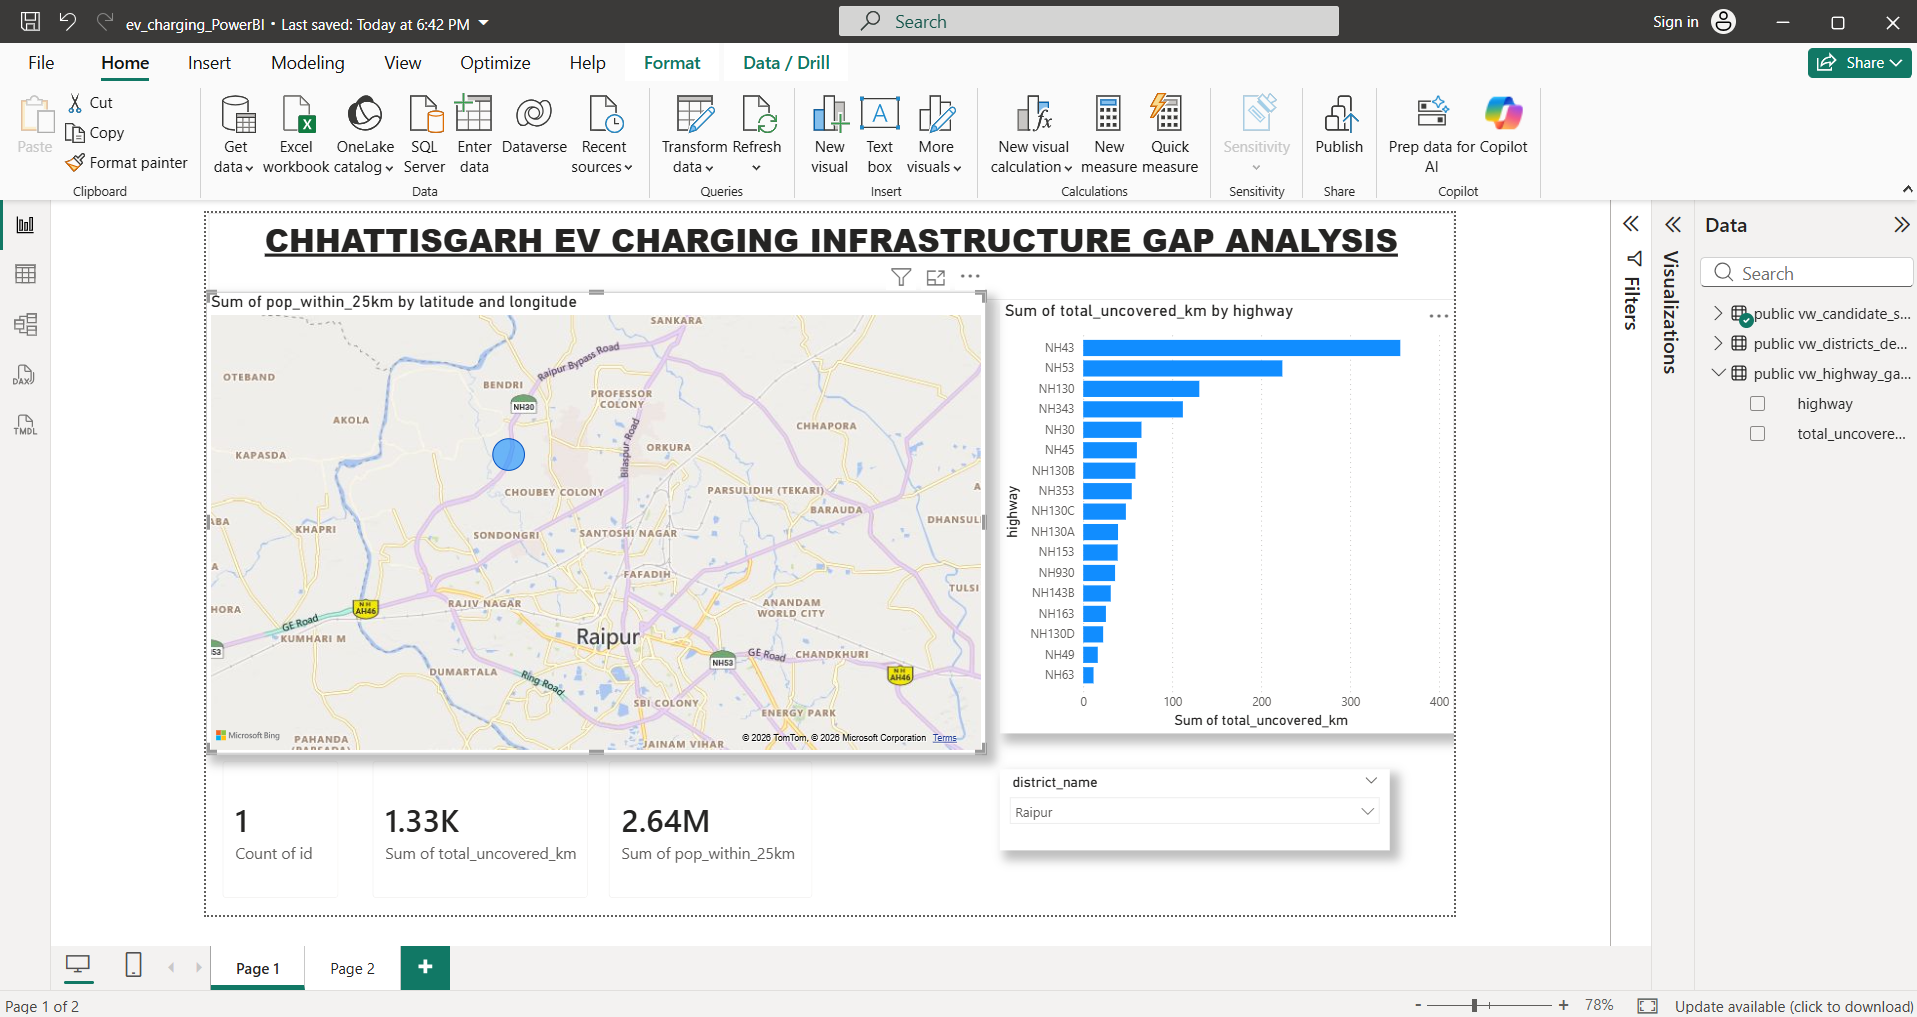

This screenshot's page, from the dashboard's own definition file:
{"tool":"powerbi","page":{"name":"Page 1","canvas":[1280,720],"ordinal":0},"visuals":[{"type":"map","fields":{"Y":["public vw_candidate_sites.latitude"],"X":["public vw_candidate_sites.longitude"],"Size":["Sum(public vw_candidate_sites.pop_within_25km)"]},"box":[0,80.8,800,474.4],"z":0},{"type":"cardVisual","fields":{"Data":["Count(public vw_candidate_sites.id)"]},"box":[0,545.2,153.5,175],"z":1000},{"type":"cardVisual","fields":{"Data":["Sum(public vw_highway_gaps.total_uncovered_km)"]},"box":[153.5,545.2,255.8,175],"z":2000},{"type":"cardVisual","fields":{"Data":["Sum(public vw_candidate_sites.pop_within_25km)"]},"box":[395.8,545.2,243.7,175],"z":3000},{"type":"clusteredBarChart","fields":{"Category":["public vw_highway_gaps.highway"],"Y":["Sum(public vw_highway_gaps.total_uncovered_km)"]},"box":[814.5,90.2,465.8,444.3],"z":4000},{"type":"slicer","fields":{"Values":["public vw_candidate_sites.district_name"]},"box":[814.5,570.8,399.8,83.5],"z":5000},{"type":"textbox","box":[2.7,0,1277.6,90.2],"z":6001}]}

Visuals, with their boxes on the page's 1280x720 design canvas (x1, y1, x2, y2). These are canvas units, not pixel positions in the 1917x1017 screenshot, which may show the page scaled, cropped or inside an application window:
map - public vw_candidate_sites.latitude x public vw_candidate_sites.longitude: x1=0, y1=81, x2=800, y2=555
cardVisual - Count(public vw_candidate_sites.id): x1=0, y1=545, x2=154, y2=720
cardVisual - Sum(public vw_highway_gaps.total_uncovered_km): x1=154, y1=545, x2=409, y2=720
cardVisual - Sum(public vw_candidate_sites.pop_within_25km): x1=396, y1=545, x2=640, y2=720
clusteredBarChart - public vw_highway_gaps.highway x Sum(public vw_highway_gaps.total_uncovered_km): x1=814, y1=90, x2=1280, y2=534
slicer - public vw_candidate_sites.district_name: x1=814, y1=571, x2=1214, y2=654
textbox: x1=3, y1=0, x2=1280, y2=90
